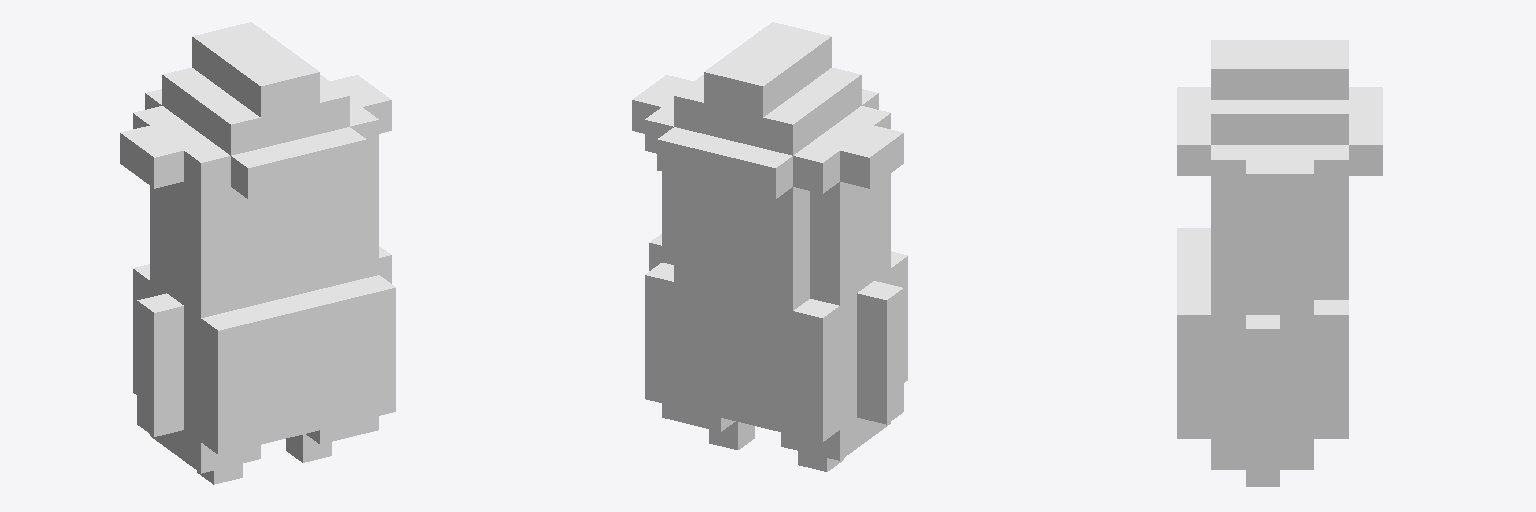
Rendered from GoldenChippyOwner.obj.
3 renders of one model, left to right at view 1: azimuth 30°, elevation 25°; view 2: azimuth 150°, elevation 25°; view 3: azimuth 270°, elevation 25°, orthographic.
Parts seen in each view (by area): view 1: object 1; view 2: object 1; view 3: object 1.
Part boxes in pixels (x1,y1,x2,y2): object 1: (120, 22, 395, 484); object 1: (632, 22, 907, 471); object 1: (1177, 40, 1382, 486).
Bounding box in the file's own units: 0.8 × 1.3 × 0.6.